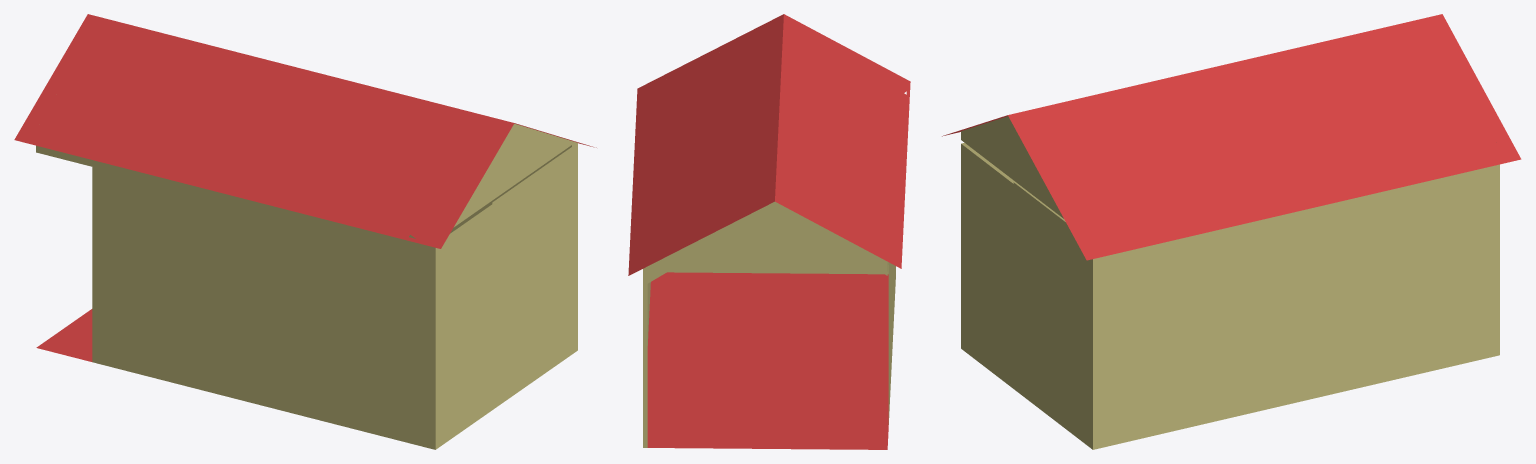
3 renders of one model, left to right at view 1: azimuth 30°, elevation 25°; view 2: azimuth 150°, elevation 25°; view 3: azimuth 270°, elevation 25°, orthographic. The views are drawn at different scales.
Bounding box in the file's own units: 23.96 × 27.51 × 14.78.
